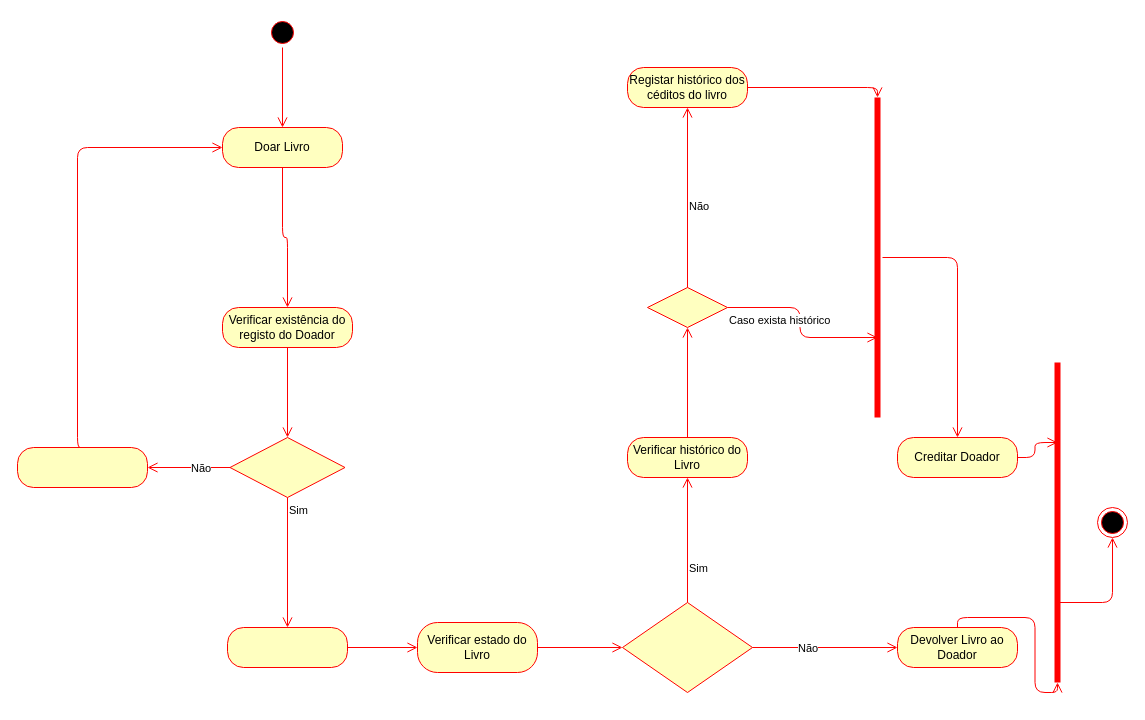
Some shapes in this 1145 by 720 pixel diagram are drawn without their labels. The shapes that lost their labels are listed below. From the top down, each one's centre as x and y in pixels, then its label:
At point (82, 467): "Registar Doador".
At point (287, 467): "Existe Doador".
At point (287, 647): "Avaliar Livro".
At point (687, 647): "Livro em bom estado".
